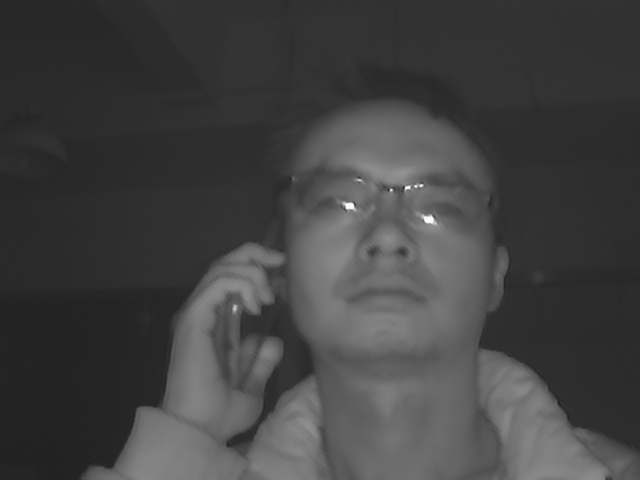hand: (161, 236, 292, 439)
